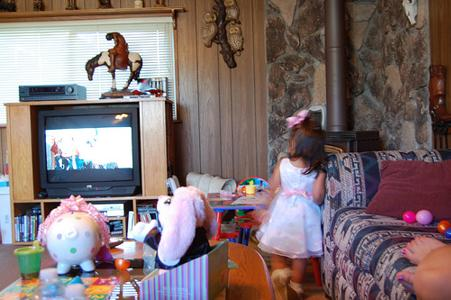person: (258, 117, 326, 298)
